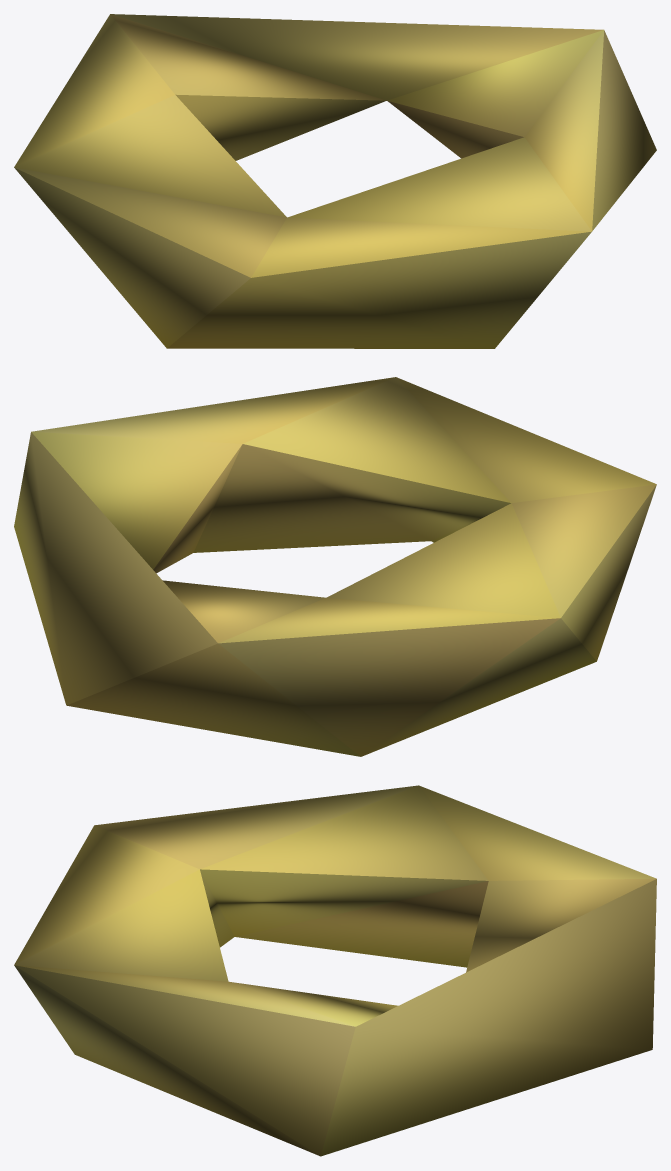
Rendered from collectible_bk_foret_broceliande_0004.glb.
3 renders of one model, top to bottom at view 1: azimuth 30°, elevation 25°; view 2: azimuth 150°, elevation 25°; view 3: azimuth 270°, elevation 25°, orthographic. The views are drawn at different scales.
Visible parts, largest first — view 1: collectible_bk_004; view 2: collectible_bk_004; view 3: collectible_bk_004.
Part boxes in pixels (left/top/right/bottom): collectible_bk_004: left=14, top=14, right=656, bottom=348; collectible_bk_004: left=14, top=377, right=656, bottom=756; collectible_bk_004: left=14, top=785, right=656, bottom=1156.
Bounding box in the file's own units: 1.42 × 0.35 × 1.36.
